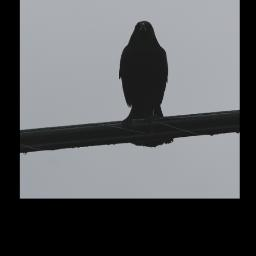Crow: (117, 21, 172, 149)
